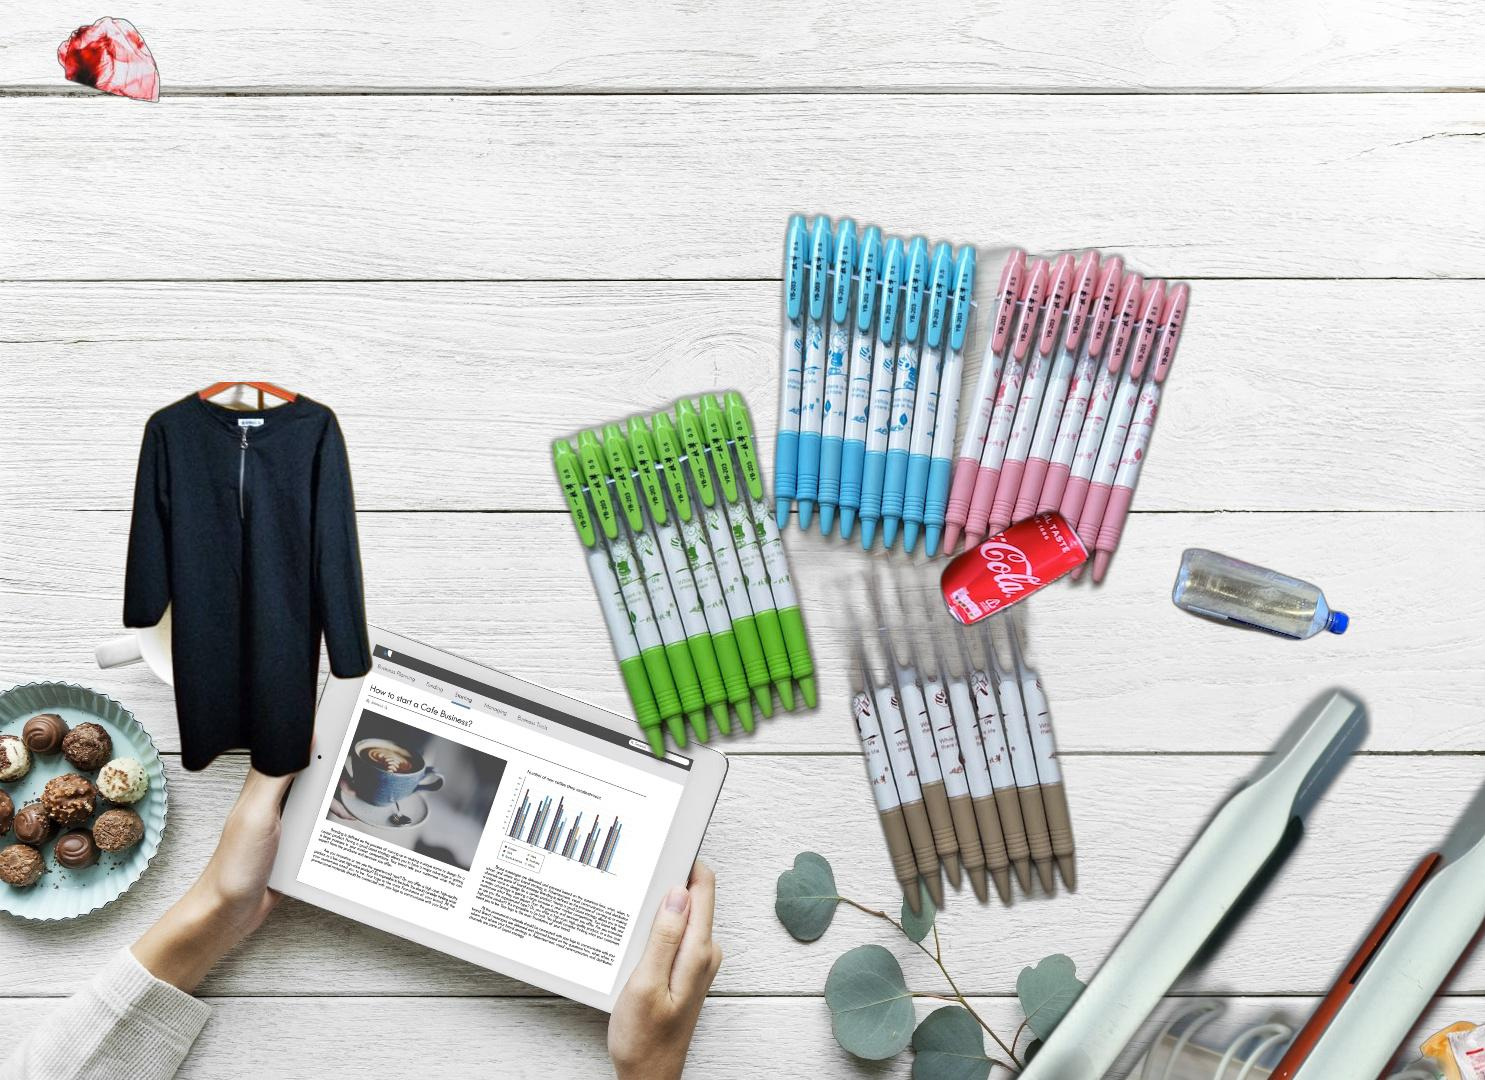clothes: (76, 382, 377, 781)
metal-cans: (936, 505, 1095, 632)
paper-bag: (1412, 518, 1485, 790)
penholder: (544, 207, 1198, 946), (473, 672, 1485, 1080)
plastic-bag: (1365, 996, 1485, 1080), (56, 15, 163, 104)
plastic-bottles: (1168, 546, 1354, 644)
